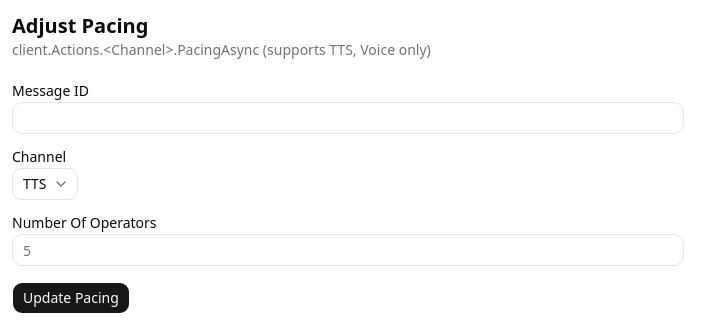
Test: PacingPage › only offers TTS and Voice
Click the dropdown named "Channel" at [45, 184], box x1=12 y1=168 x2=78 y2=200
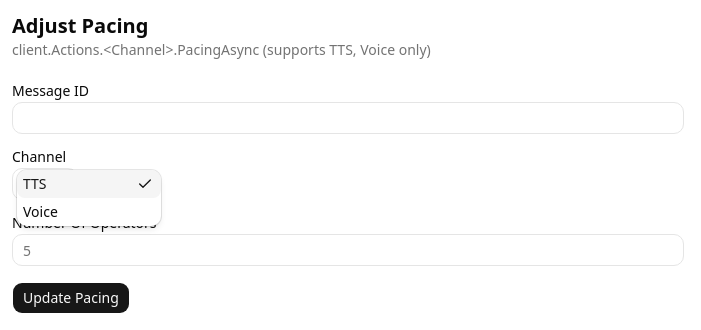
Expected: the option "TTS" is shown, x1=17 y1=170 x2=161 y2=198
Expected: the option "Voice" is shown, x1=23 y1=202 x2=58 y2=221
